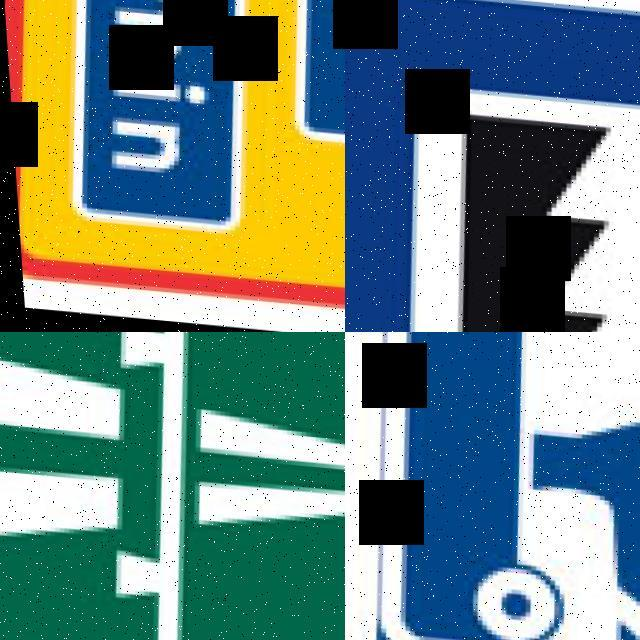59: (345, 0, 640, 332)
Motorway: (0, 332, 345, 640)
Parking allowed for 15min: (0, 0, 345, 332)
Symbol plate for specified vehicle or road user category: (345, 332, 640, 640)
